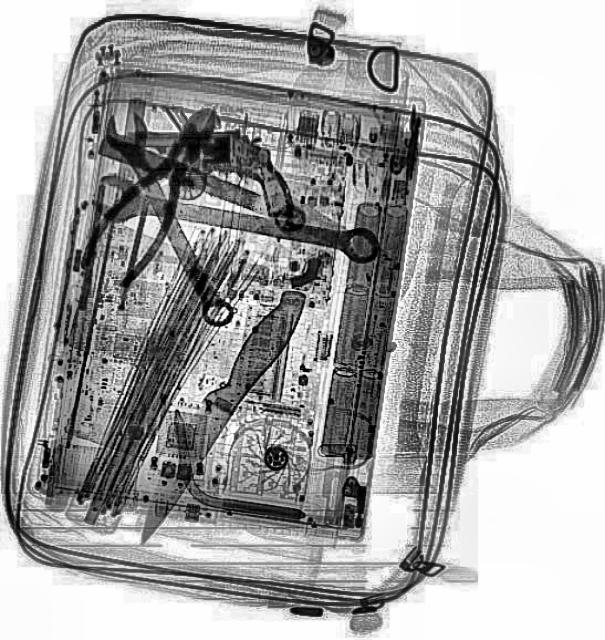Gun: (128, 128, 304, 230)
Knife: (120, 279, 314, 551), (96, 134, 348, 240)
Pliers: (69, 90, 239, 292)
Wrench: (98, 104, 244, 336), (92, 172, 384, 264)
